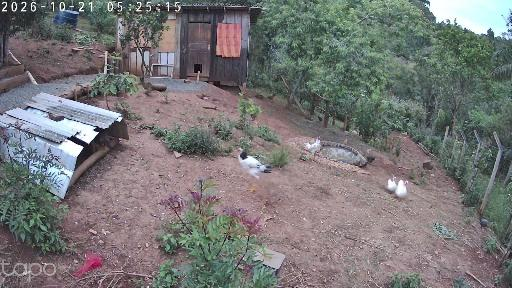frango: (236, 148, 272, 193), (96, 129, 113, 150), (478, 214, 491, 231)
galinha: (367, 156, 376, 165), (267, 94, 275, 103), (317, 115, 323, 122), (343, 139, 348, 145)
galo: (305, 136, 322, 162)
pato: (394, 180, 409, 202), (386, 176, 397, 193)
